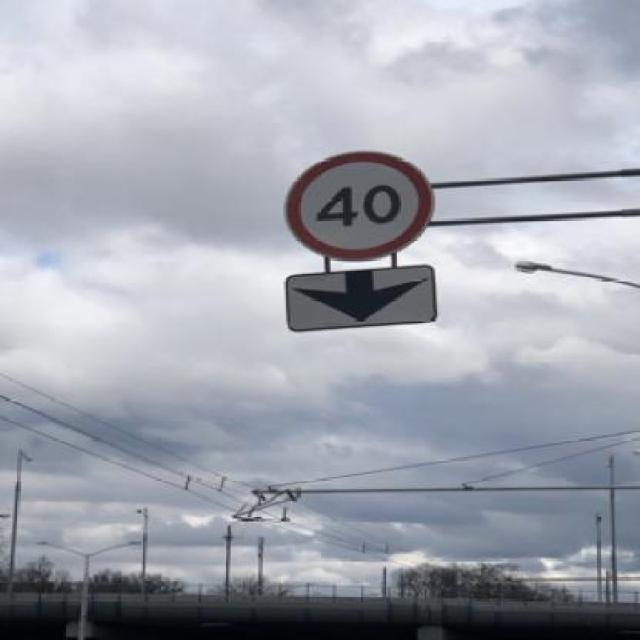forb_speed_over_40: (287, 150, 431, 256)
